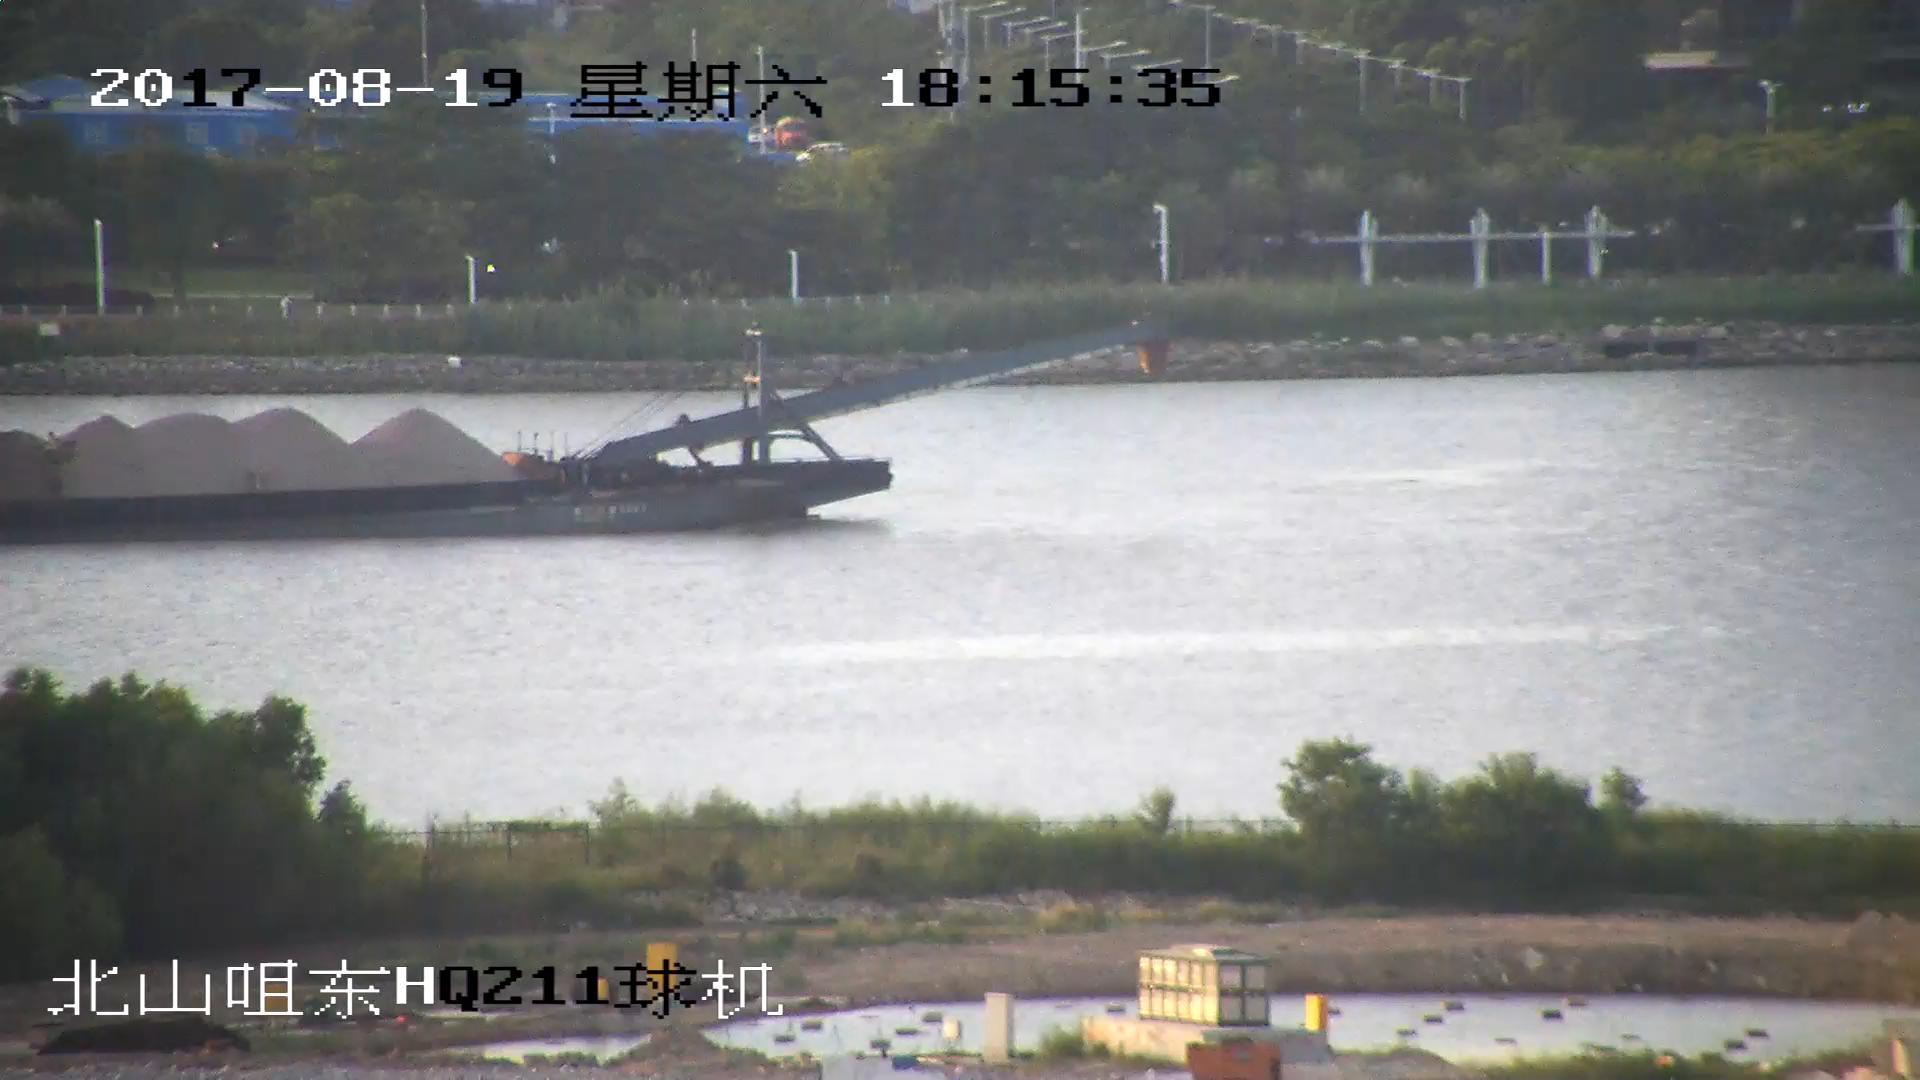Ship: (3, 324, 1162, 553)
